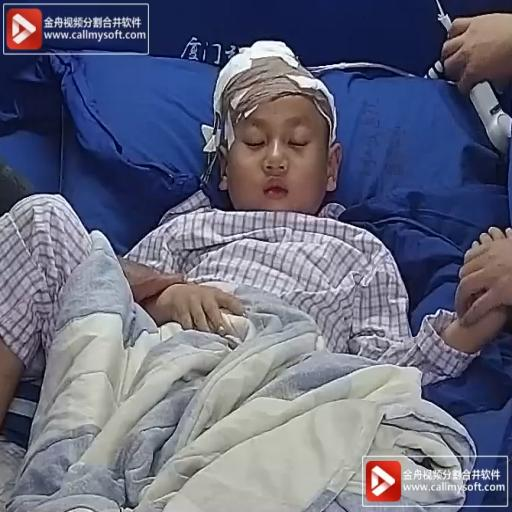Seizure: (205, 67, 359, 214)
